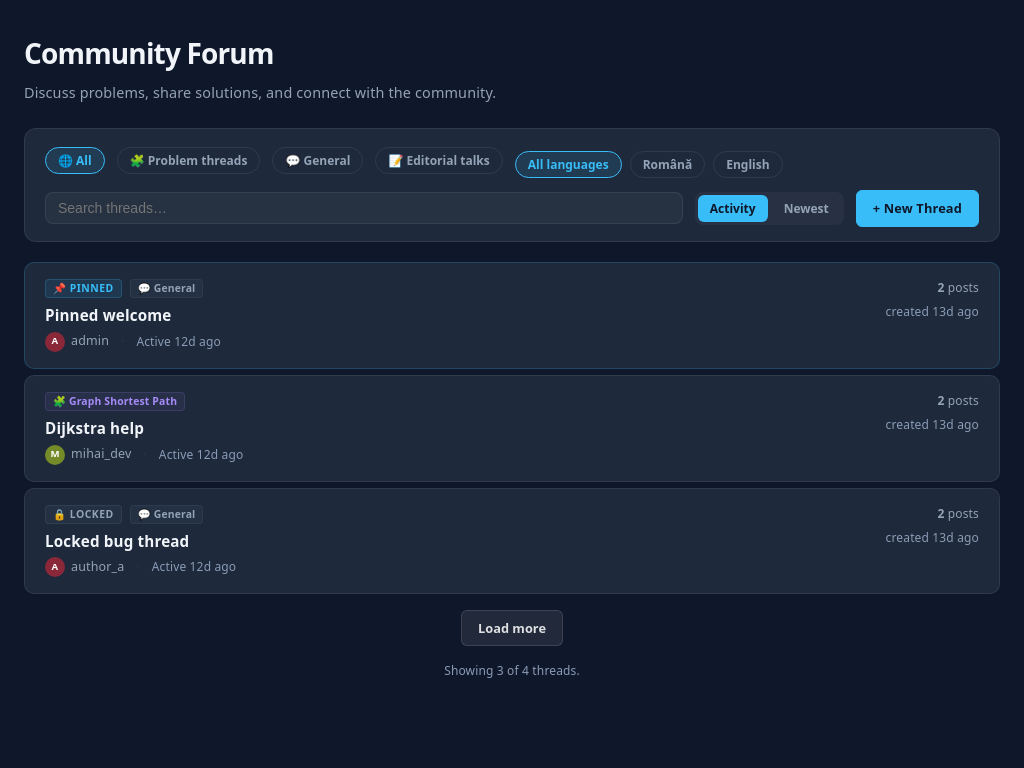
Test: ForumPage (live threads) › appends the next page on Load more
The width and height of the screenshot is (1024, 768).
Expected: the heading "Dijkstra help" is shown, [45, 418, 144, 438]
Click the button "Load more" at point(512, 628), box [461, 610, 563, 646]
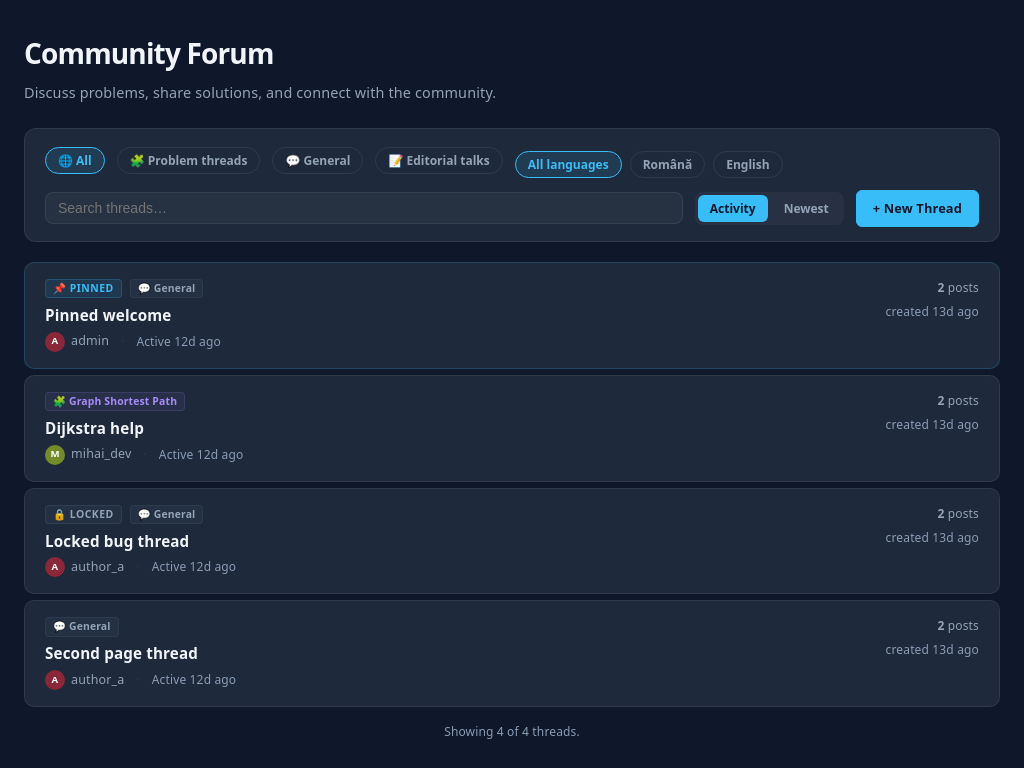
Expected: the heading "Second page thread" is shown, [45, 643, 198, 663]
Expected: the text "Showing 4 of 4 threads." is shown, [444, 723, 580, 740]
